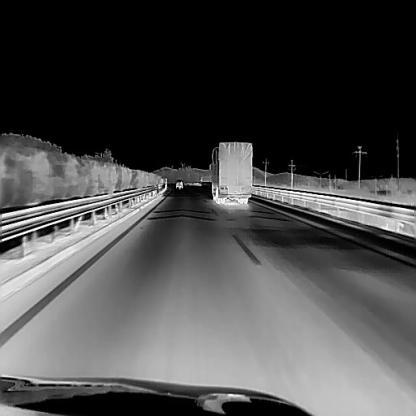car: (208, 141, 252, 203), (174, 177, 183, 188)
